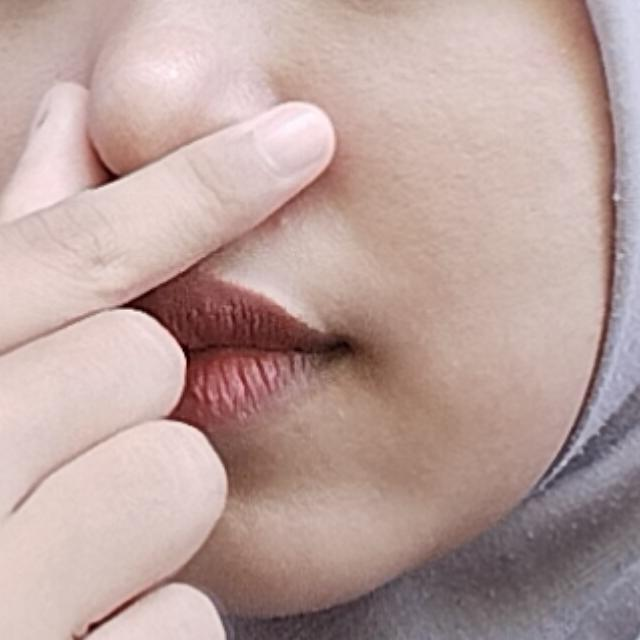bau: (0, 58, 425, 640)
